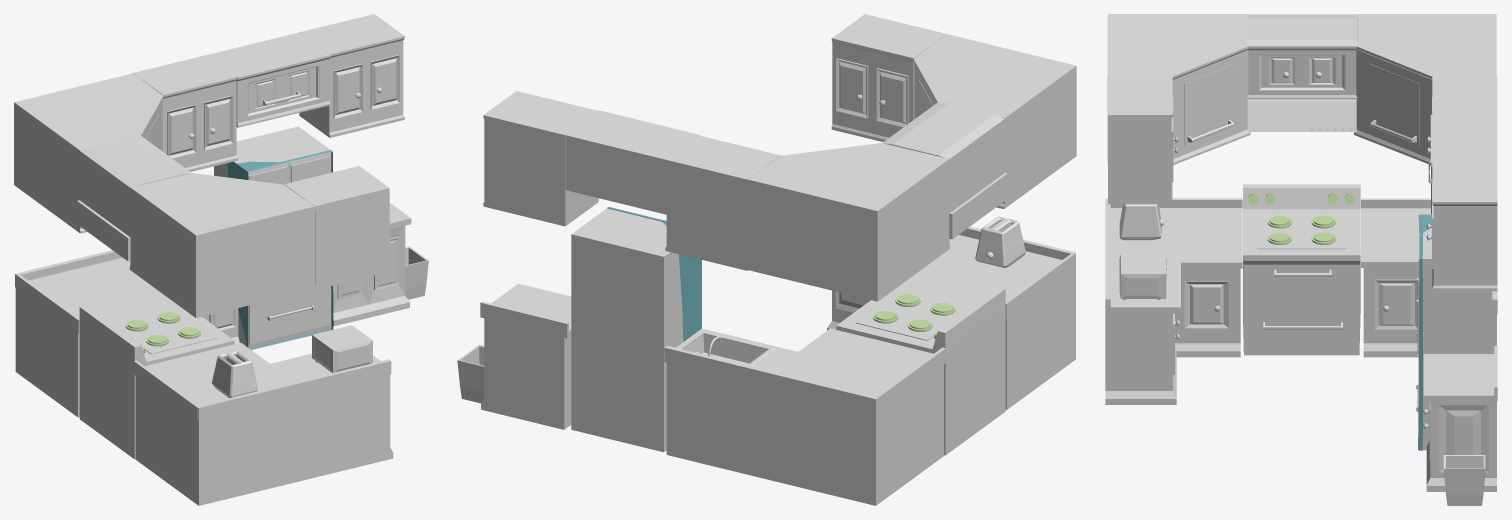
File: cozinha.fbx
3 views of the same model, side by side, from view 1: azimuth 30°, elevation 25°; view 2: azimuth 150°, elevation 25°; view 3: azimuth 270°, elevation 25° (orthographic). The views are drawn at different scales.
Parts seen in each view (by area): view 1: balcão 1, aéreo 1, mesa da pia, aéreo 2, fogão, aéreo, geladeira, aéreo 3, aéreo 2.001, aéreo cima geladeira, aéreo cima da coifa, balcão solo (+4 smaller); view 2: mesa da pia, aéreo 2, geladeira, aéreo 1, balcão 1, fogão, balcão solo, aéreo, aéreo 2.001, aéreo 3, aéreo cima geladeira, aéreo cima da coifa (+3 smaller); view 3: balcão 1, fogão, aéreo 1, aéreo 2, mesa da pia, aéreo cima da coifa, aéreo 3, aéreo, balcão solo, geladeira, coifa, aéreo cima geladeira (+4 smaller).
Boxes of the visible parts, bbox=[...] form: balcão 1: bbox=[134, 343, 393, 505]; aéreo 1: bbox=[129, 173, 315, 318]; mesa da pia: bbox=[15, 250, 239, 417]; aéreo 2: bbox=[14, 73, 163, 233]; fogão: bbox=[79, 302, 234, 459]; aéreo: bbox=[299, 14, 404, 137]; geladeira: bbox=[214, 126, 333, 350]; aéreo 3: bbox=[284, 166, 389, 289]; aéreo 2.001: bbox=[133, 54, 238, 171]; aéreo cima geladeira: bbox=[208, 32, 330, 127]; aéreo cima da coifa: bbox=[80, 135, 191, 237]; balcão solo: bbox=[333, 203, 411, 326]; mesa da pia: bbox=[664, 328, 945, 505]; aéreo 2: bbox=[747, 143, 950, 301]; geladeira: bbox=[571, 206, 701, 452]; aéreo 1: bbox=[913, 34, 1076, 208]; balcão 1: bbox=[827, 226, 1075, 409]; fogão: bbox=[836, 283, 1005, 455]; balcão solo: bbox=[480, 283, 571, 429]; aéreo: bbox=[483, 91, 598, 226]; aéreo 2.001: bbox=[665, 135, 780, 270]; aéreo 3: bbox=[831, 14, 946, 141]; aéreo cima geladeira: bbox=[565, 110, 700, 214]; aéreo cima da coifa: bbox=[882, 102, 1005, 212]; balcão 1: bbox=[1105, 198, 1242, 404]; fogão: bbox=[1243, 184, 1360, 355]; aéreo 1: bbox=[1107, 14, 1250, 164]; aéreo 2: bbox=[1354, 14, 1496, 163]; mesa da pia: bbox=[1361, 198, 1497, 357]; aéreo cima da coifa: bbox=[1247, 14, 1357, 99]; aéreo 3: bbox=[1108, 75, 1178, 204]; aéreo: bbox=[1426, 163, 1497, 291]; balcão solo: bbox=[1423, 346, 1497, 491]; geladeira: bbox=[1416, 214, 1492, 450]; coifa: bbox=[1247, 99, 1356, 131]; aéreo cima geladeira: bbox=[1428, 114, 1497, 216].
Bounding box in the file's own units: 1961 × 1298 × 1588.
